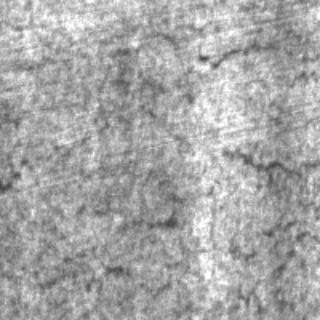crazing: (26, 190, 204, 304), (85, 28, 317, 100), (218, 143, 314, 315)
